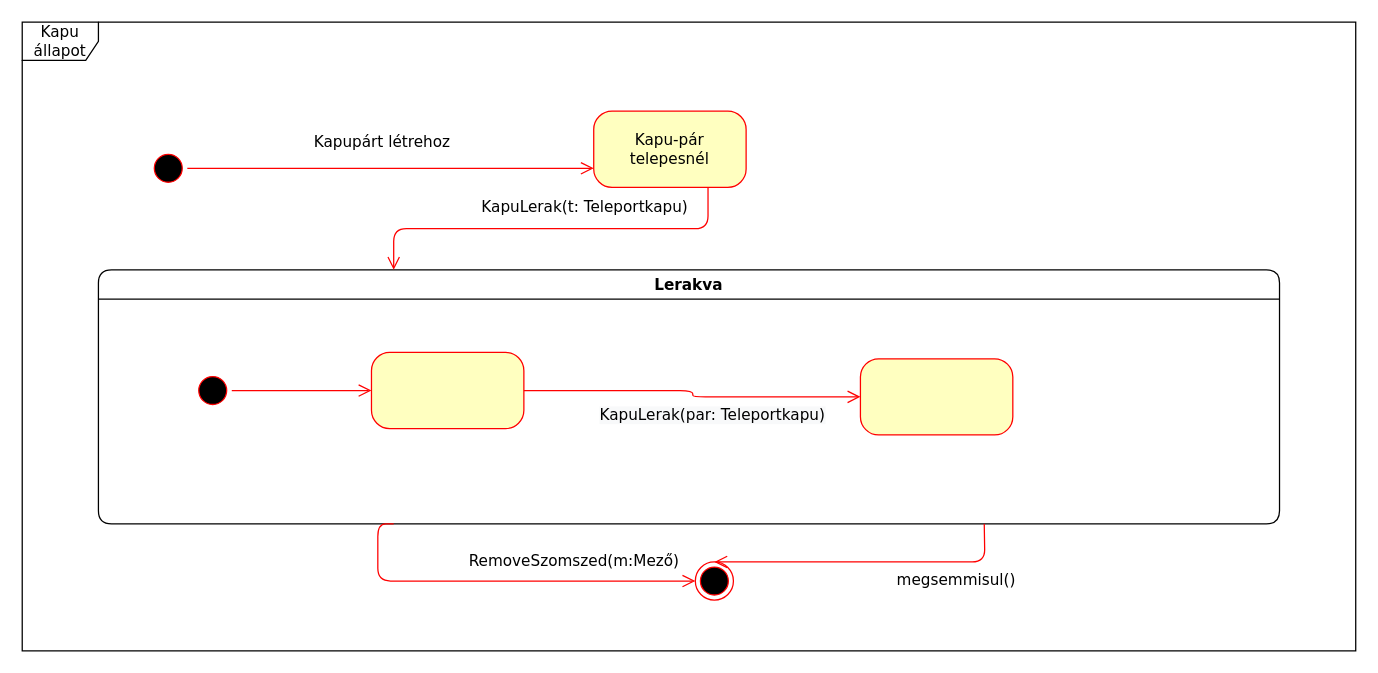
The diagram is 1378 pixels wide and 673 high, and some of its shapes have lost their labels. The box of each missing label's shape, as (x1, y1, x2, y2) in pixels:
Aktív kapu pár: (859, 358, 1013, 435)
Egyik lerakva: (370, 351, 524, 429)
